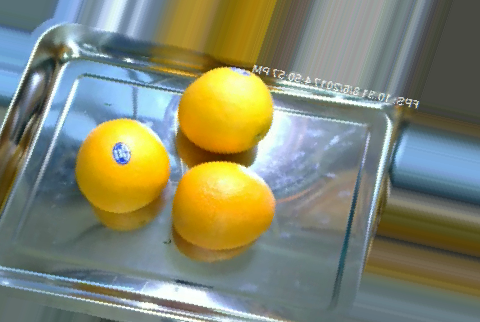Orange: (171, 160, 276, 250), (74, 117, 171, 212), (177, 66, 274, 153)
